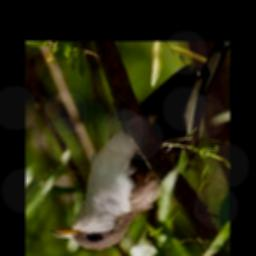Cuckoo: (50, 41, 230, 250)
